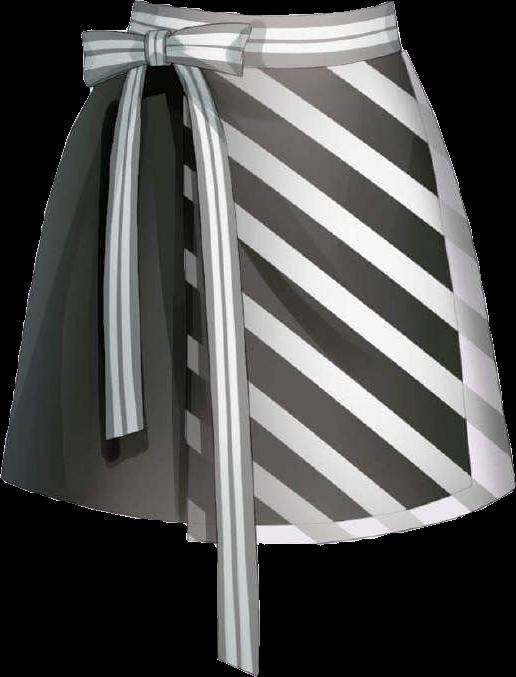Hemline: (175, 69, 515, 554), (0, 471, 471, 522)
Waistline: (120, 40, 405, 75), (131, 0, 395, 18)
